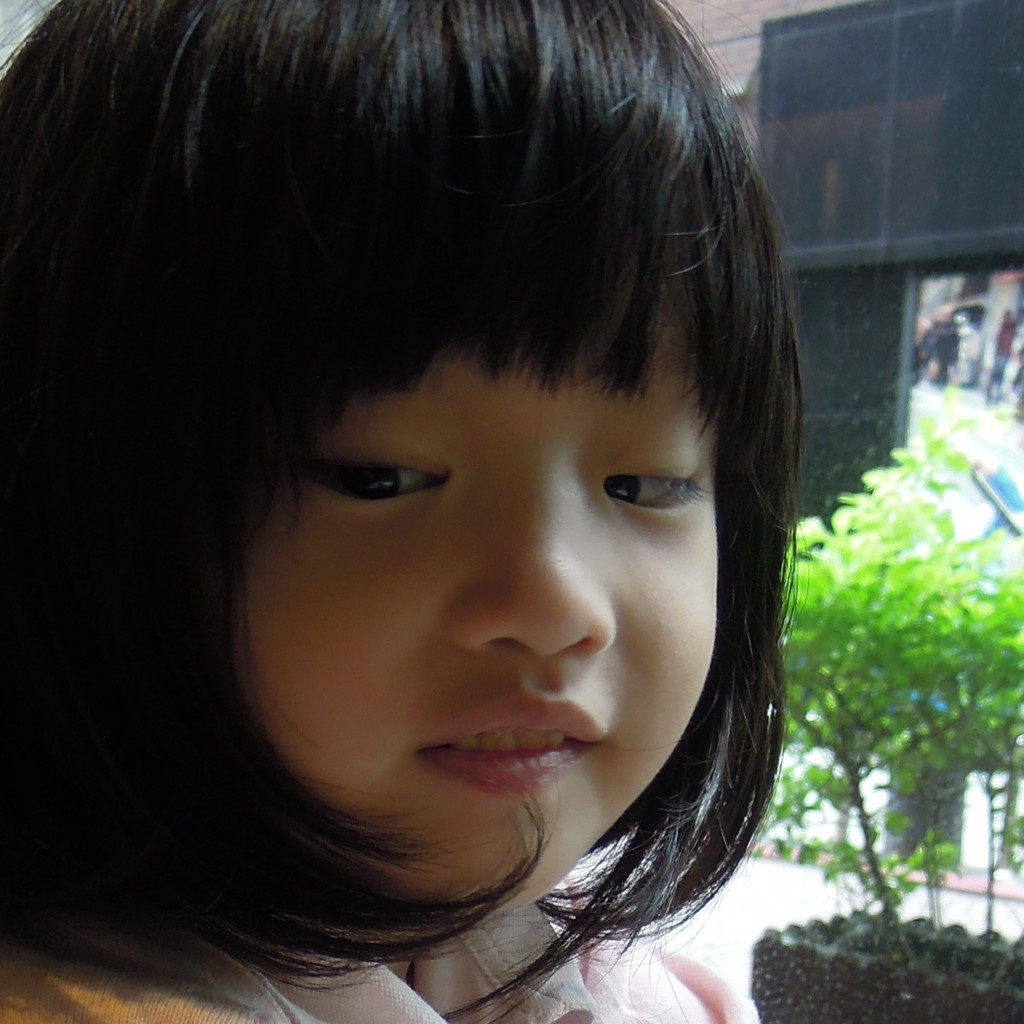sin_mascara: (157, 41, 753, 926)
